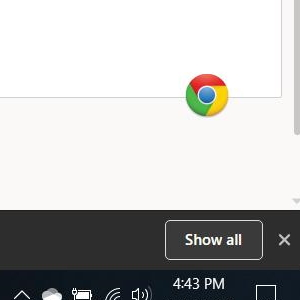chrome: (185, 73, 229, 117)
